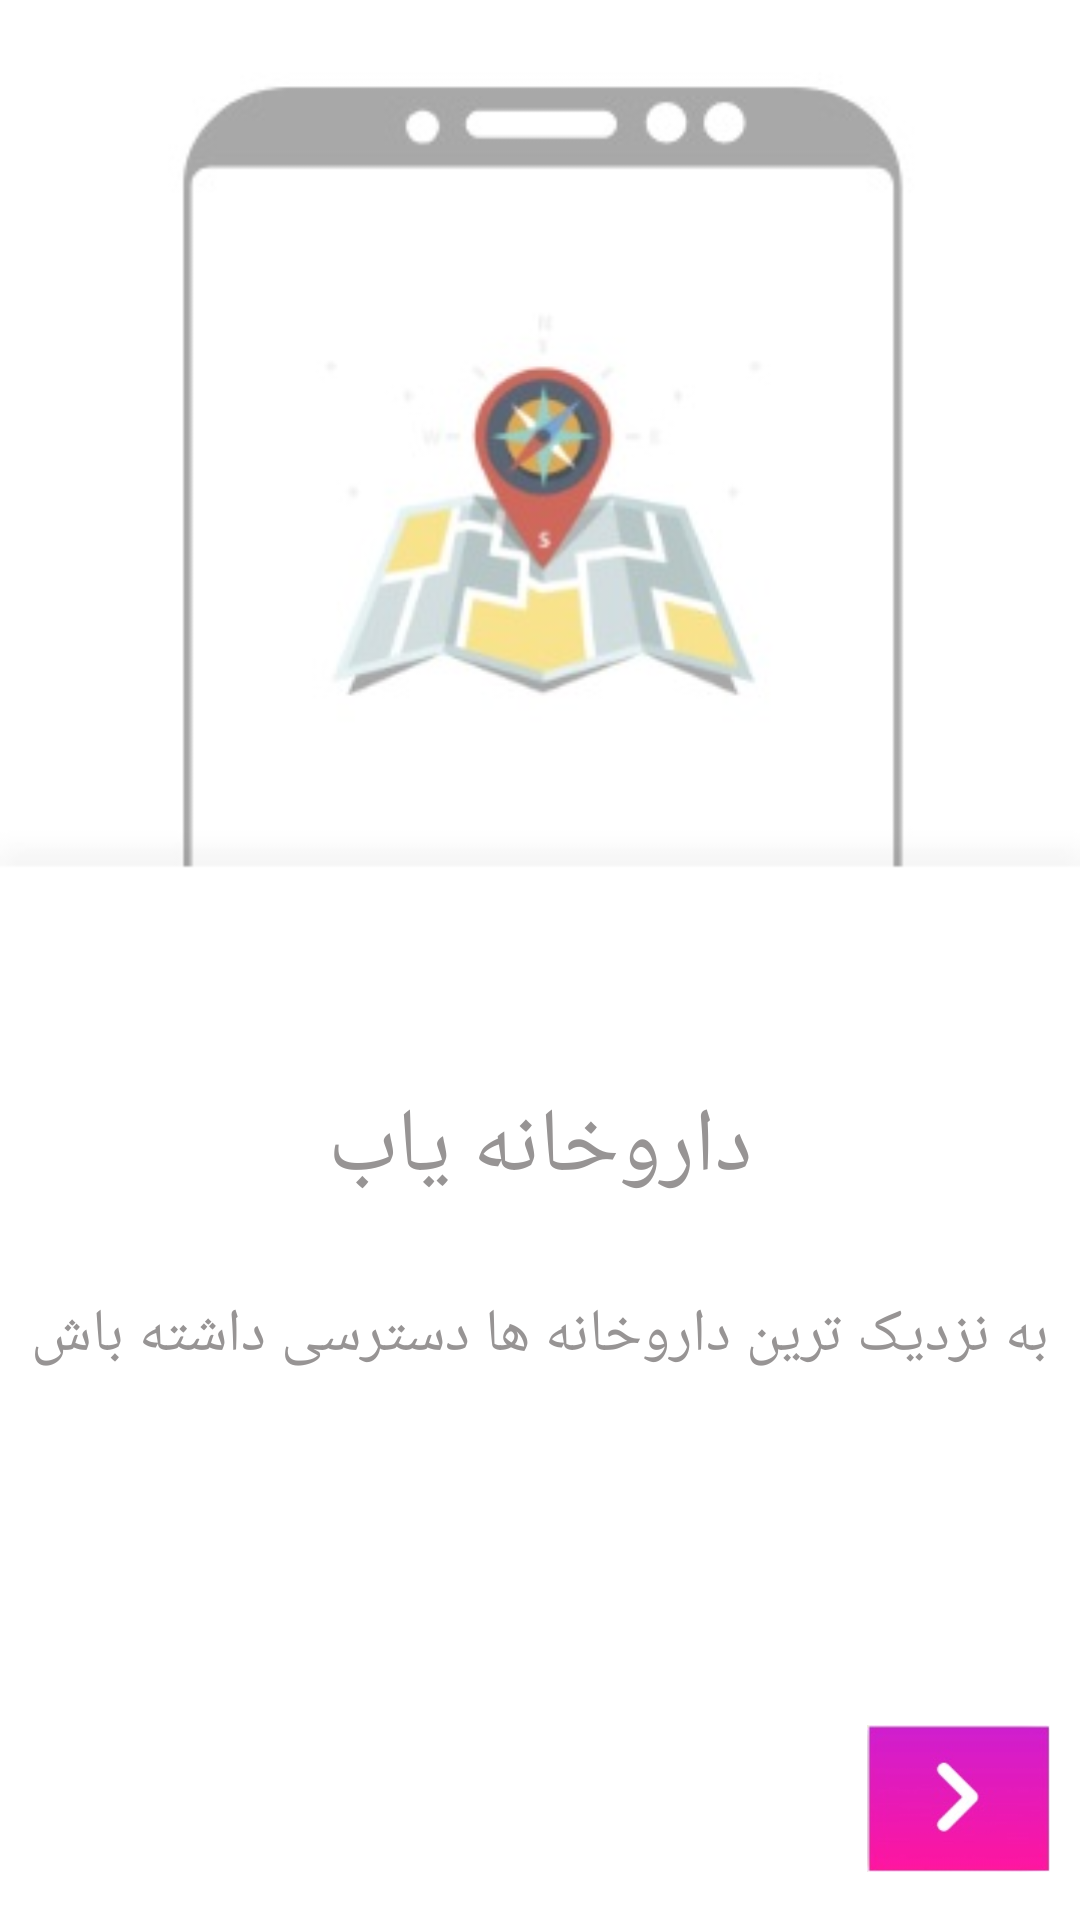

Named icons in this screenshot (1080w x 1920h) and their bounding boxes, (x1, y1, x2, y2):
arr: (867, 1725, 1050, 1872)
